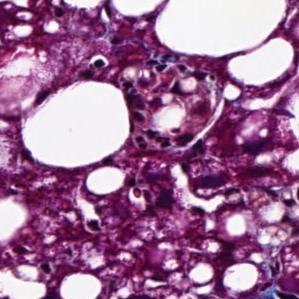inflammation: (138, 55, 211, 96), (132, 127, 198, 153), (64, 207, 106, 234), (255, 260, 284, 299)
